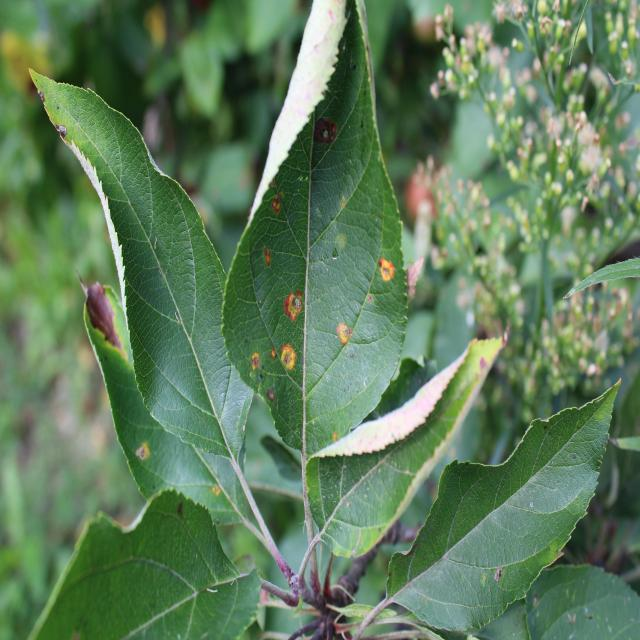Rust: (312, 115, 340, 158), (258, 226, 279, 276), (243, 339, 265, 385), (336, 306, 357, 354), (282, 287, 308, 324), (281, 344, 300, 386), (376, 252, 399, 286), (204, 479, 230, 508), (270, 189, 286, 215)
